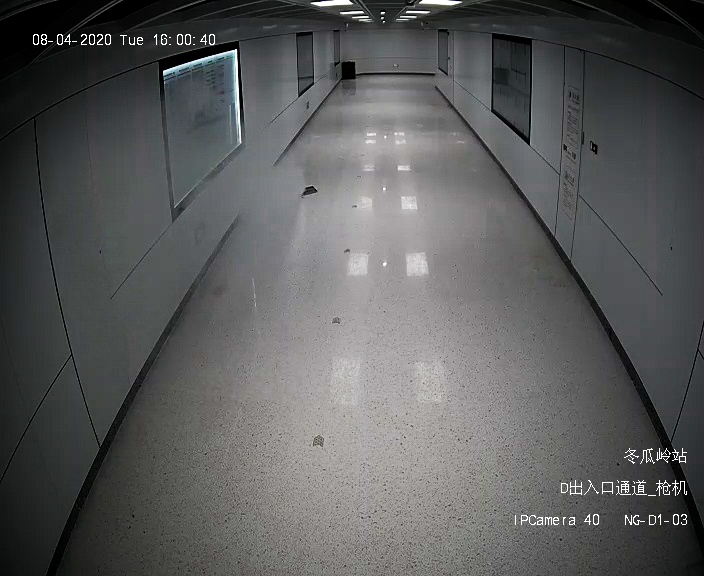smoke: (230, 163, 303, 233)
